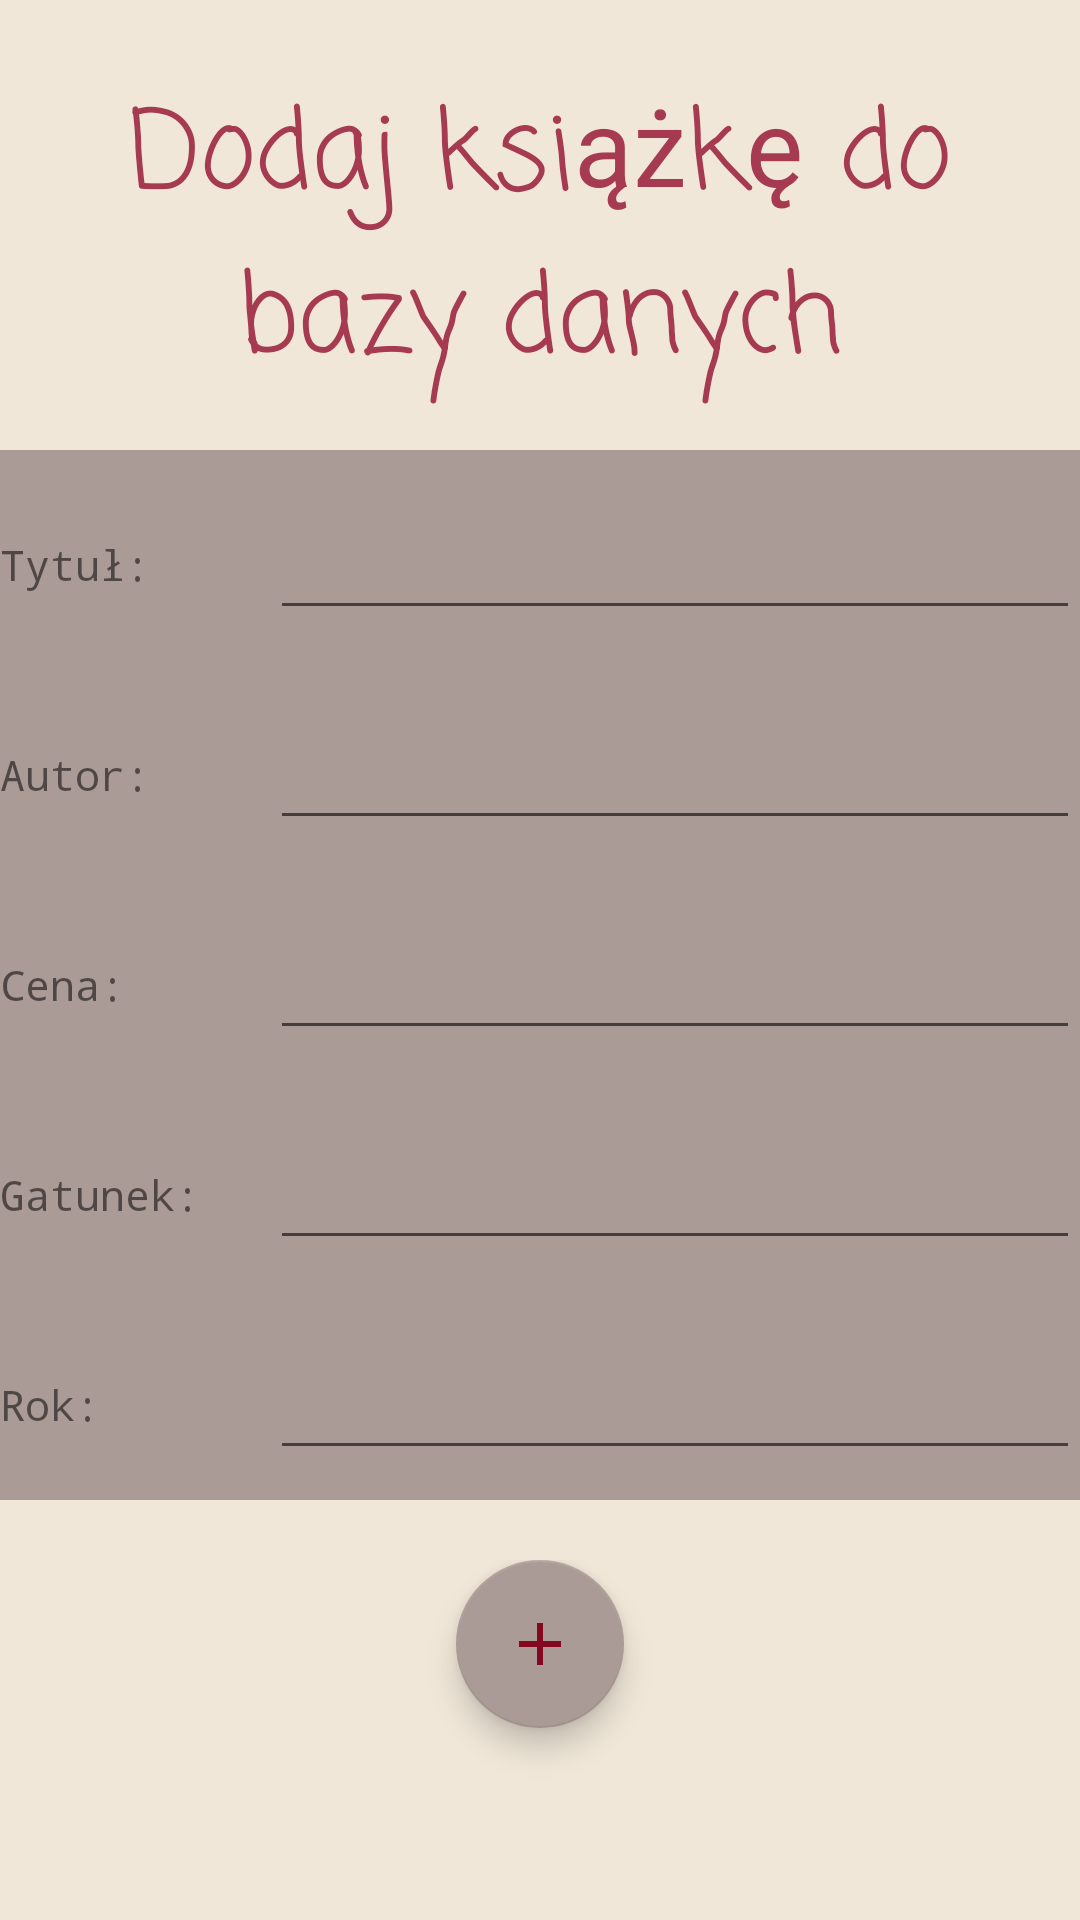

Where to tap for icons on this 1080 × 1920 app screen, as (x,y):
add: (540,1644)
